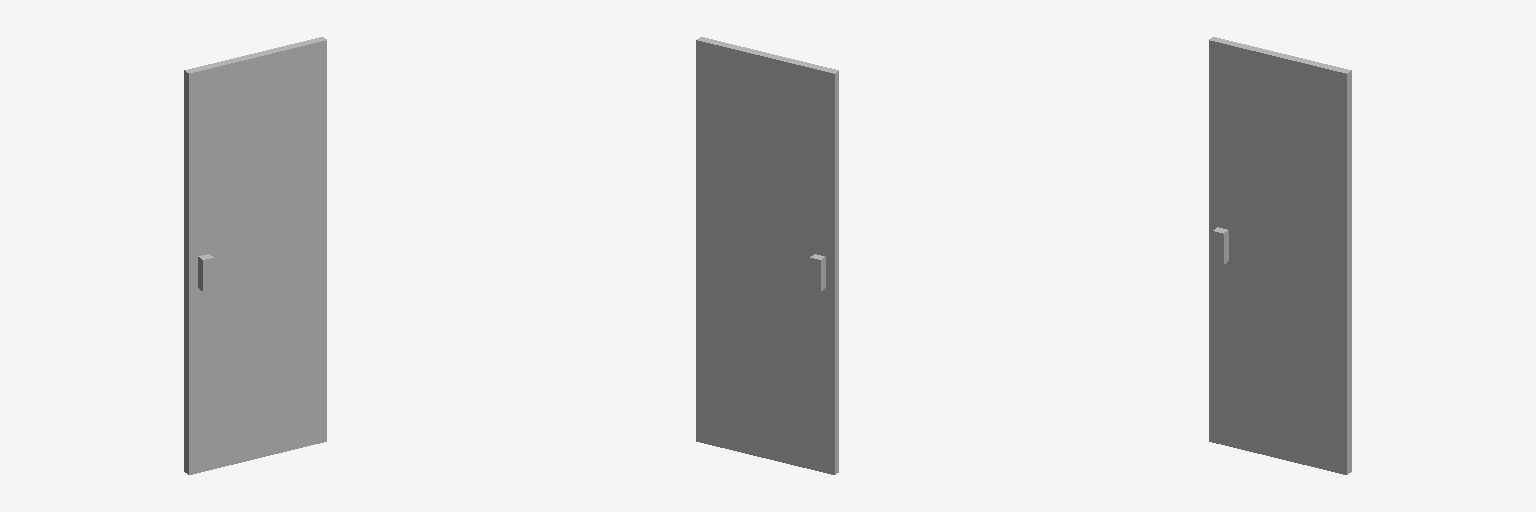
The model's file is showerDoor2.obj.
The picture shows the model from 3 angles: view 1: azimuth 30°, elevation 25°; view 2: azimuth 150°, elevation 25°; view 3: azimuth 330°, elevation 25°; orthographic projection.
Parts seen in each view (by area): view 1: showerDoor_Plane.001; view 2: showerDoor_Plane.001; view 3: showerDoor_Plane.001.
Boxes of the visible parts, x1=… form: showerDoor_Plane.001: x1=184, y1=37, x2=326, y2=474; showerDoor_Plane.001: x1=696, y1=37, x2=838, y2=474; showerDoor_Plane.001: x1=1209, y1=37, x2=1351, y2=474.
Bounding box in the file's own units: 0.6075 × 1.69 × 0.111.